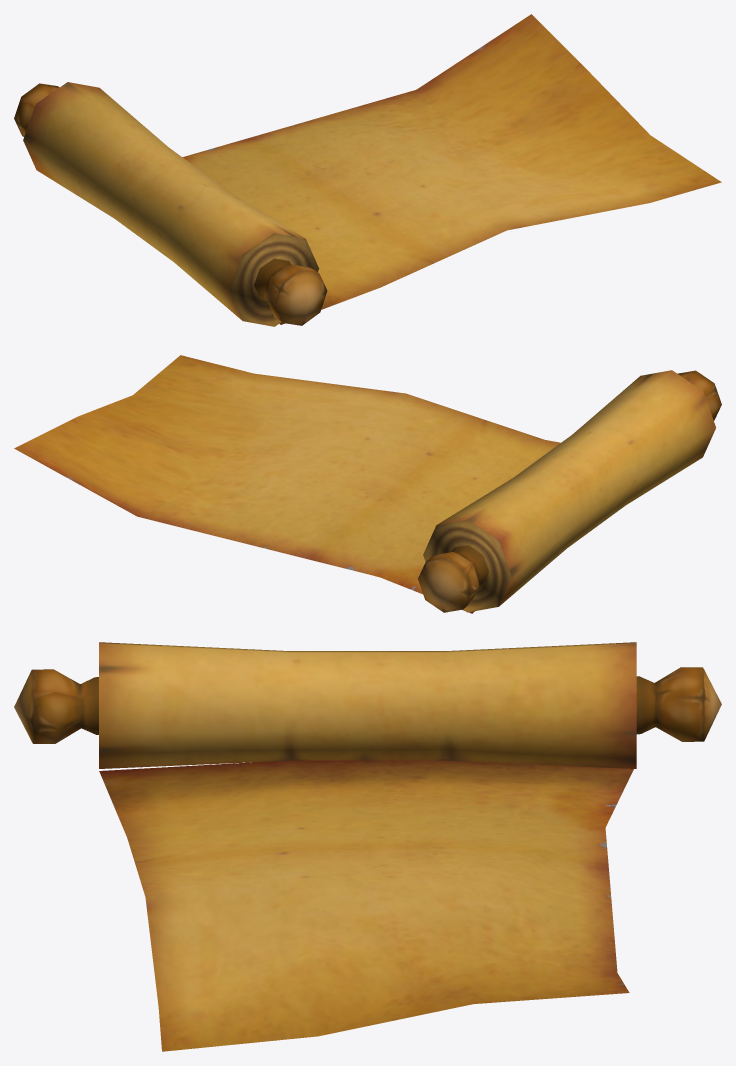
Rendered from roll_open_003.fbx.
The picture shows the model from 3 angles, top to bottom: view 1: azimuth 30°, elevation 25°; view 2: azimuth 150°, elevation 25°; view 3: azimuth 270°, elevation 25°; orthographic projection. The views are drawn at different scales.
Parts seen in each view (by area): view 1: roll; view 2: roll; view 3: roll.
Boxes of the visible parts, x1=… form: roll: x1=14, y1=14, x2=721, y2=326; roll: x1=14, y1=355, x2=721, y2=613; roll: x1=14, y1=642, x2=721, y2=1051.
Size of the model in its own units: 36.96 by 6.44 by 33.64.
